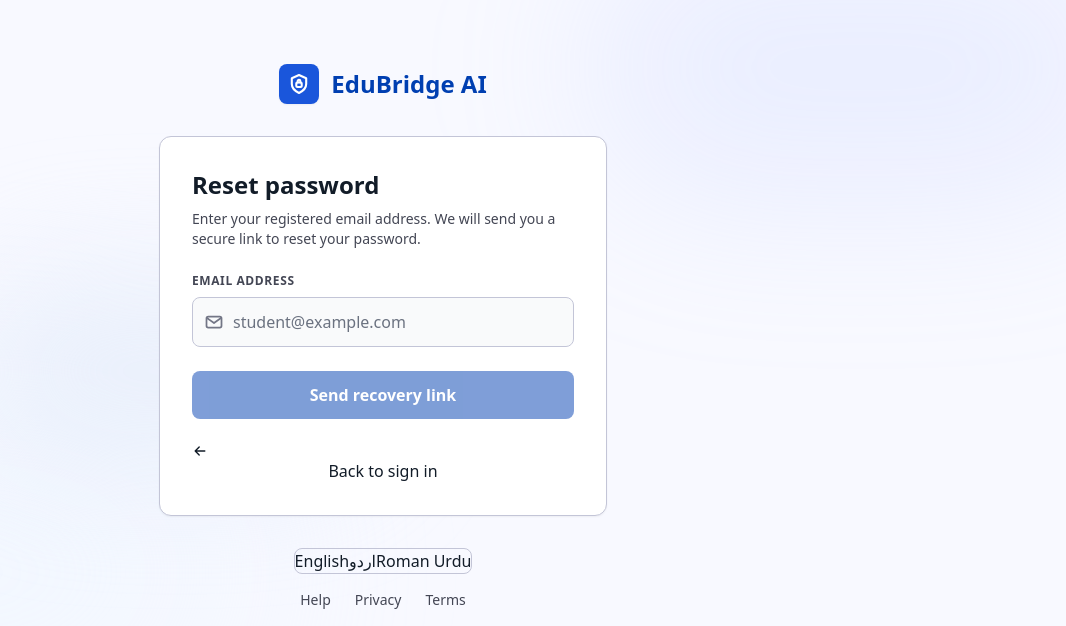
Test: forgot password › confirms identically for a known and an unknown address
Step 1. Type "nobody@example.com" into the field labelled "Email Address" → (383, 322), box [192, 297, 574, 347]
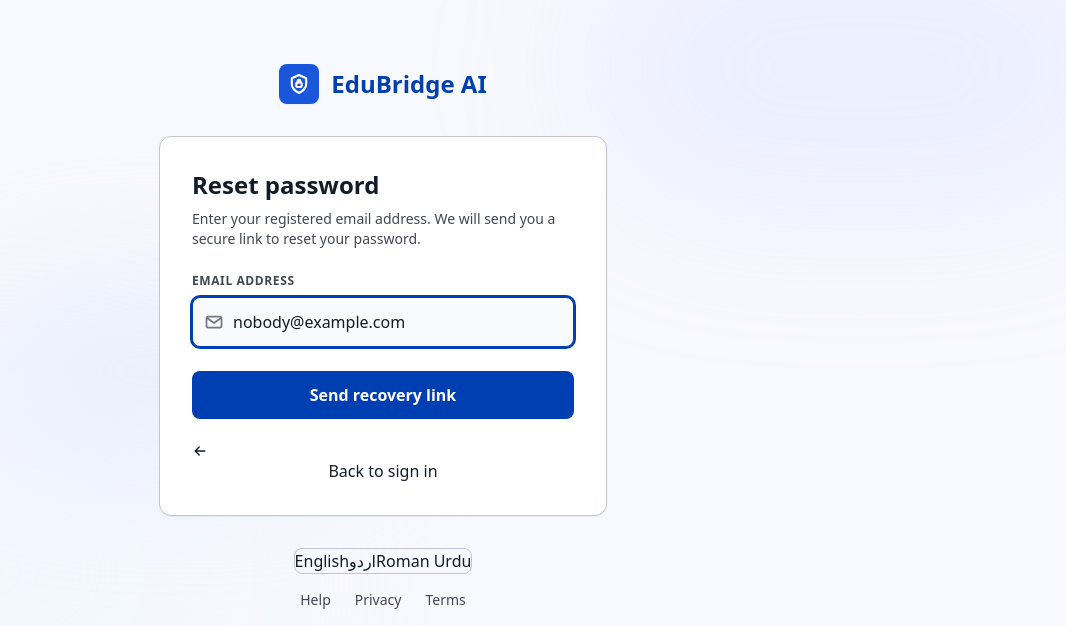
Step 2. Click the button "Send recovery link" → (383, 395), box [192, 371, 574, 419]
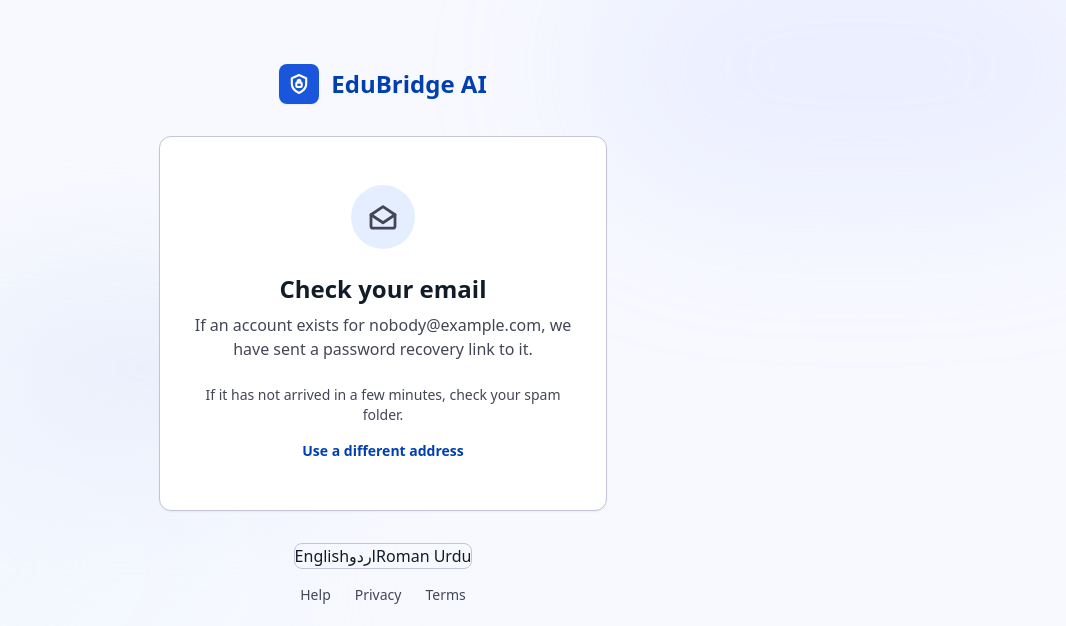
Check: the heading "Check your email" is shown, box [280, 272, 486, 305]
Check: the text "nobody@example.com" is shown, box [195, 314, 571, 360]
